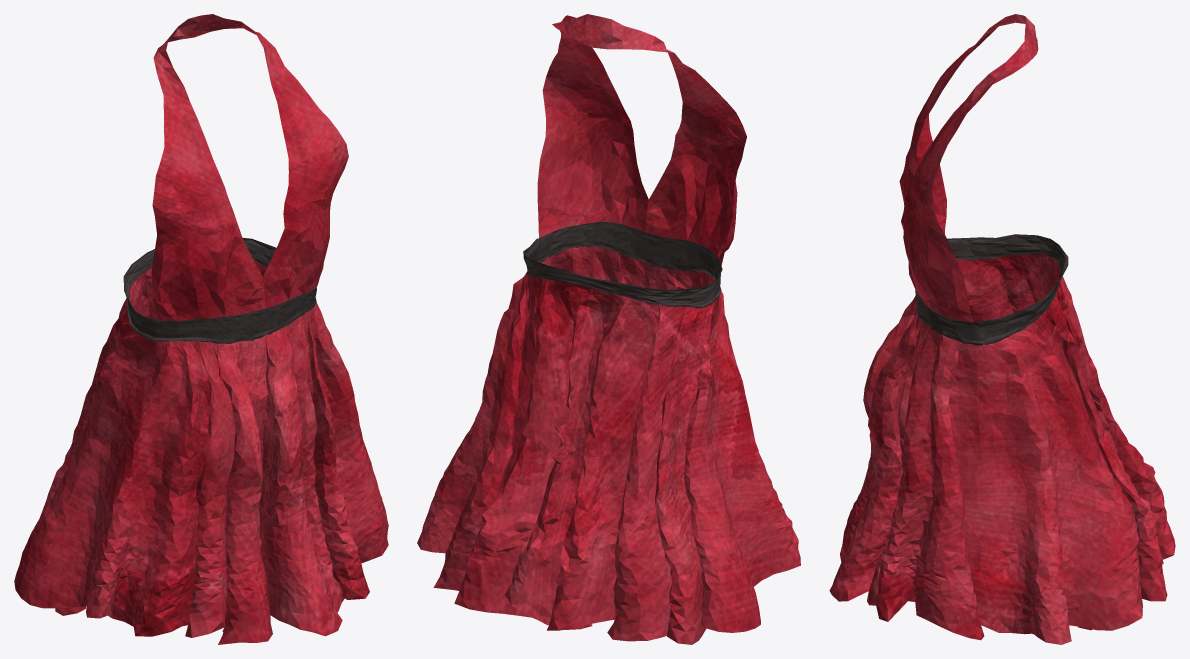
Rendered from mhw_elvs_halter_dress_mini.glb.
The picture shows the model from 3 angles, left to right: view 1: azimuth 30°, elevation 25°; view 2: azimuth 150°, elevation 25°; view 3: azimuth 270°, elevation 25°; orthographic projection.
Parts seen in each view (by area): view 1: mhw_elvs_halter_dress_mini; view 2: mhw_elvs_halter_dress_mini; view 3: mhw_elvs_halter_dress_mini.
Boxes of the visible parts, x1,y1,x2,y2 form: mhw_elvs_halter_dress_mini: (14, 14, 388, 644); mhw_elvs_halter_dress_mini: (417, 14, 800, 644); mhw_elvs_halter_dress_mini: (829, 14, 1175, 644).
Bounding box in the file's own units: 0.5814 × 0.9679 × 0.5316.
1 material, 1 textured.
